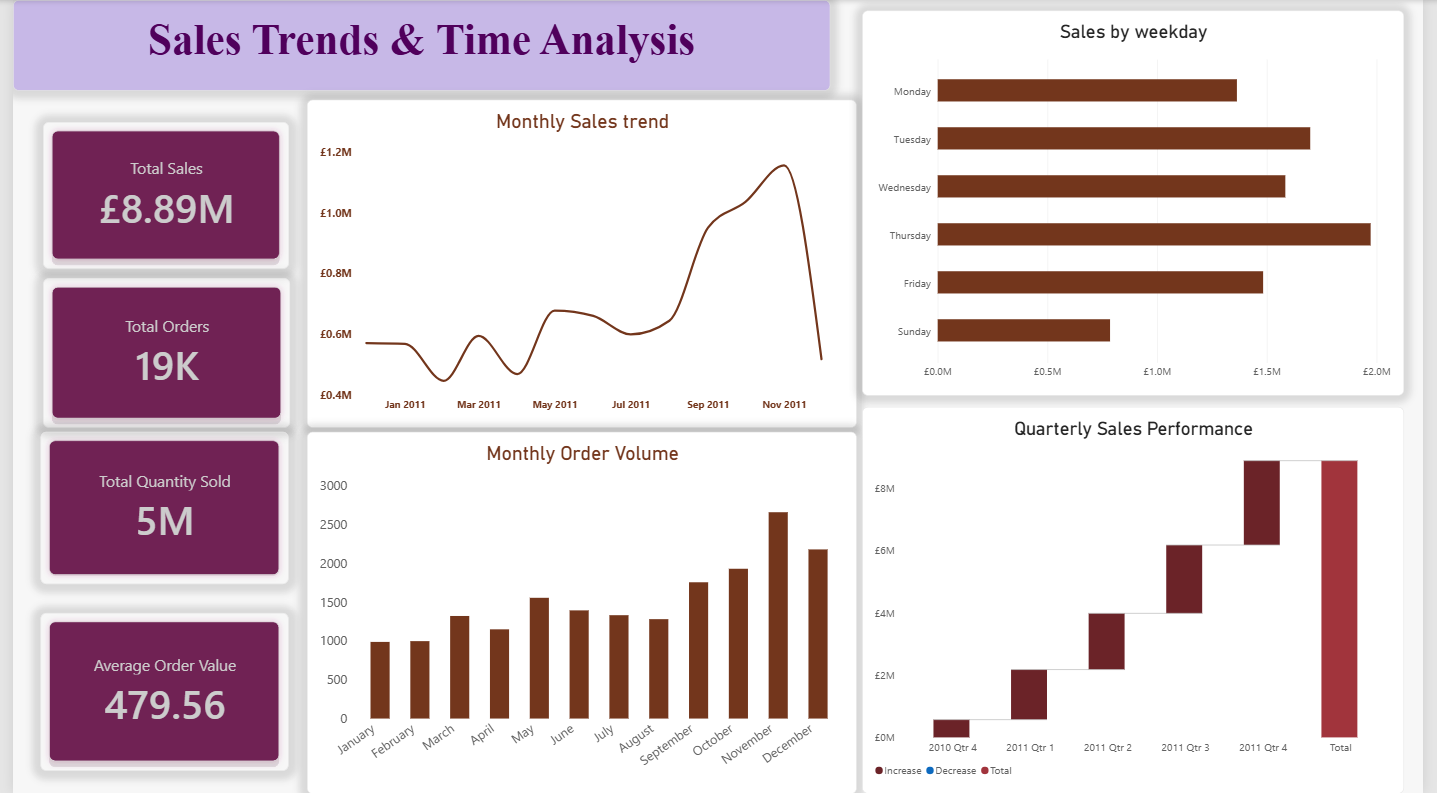

Layout of this report page (visuals, bound fields, positions):
{"tool":"powerbi","page":{"name":"Sales Trends & Time Analysis","canvas":[1920,1080],"ordinal":3},"visuals":[{"type":"textbox","box":[0,0,571.2,168],"z":0},{"type":"cardVisual","fields":{"Data":["ecommerce_cleaned csv.Total Sales"]},"box":[85.9,182.9,334.1,199.7],"z":1000},{"type":"cardVisual","fields":{"Data":["ecommerce_cleaned csv.Total Orders"]},"box":[85.9,401.3,336,203.5],"z":2000},{"type":"cardVisual","fields":{"Data":["ecommerce_cleaned csv.Total Quantity Sold"]},"box":[85.9,623.5,337.9,207.2],"z":3000},{"type":"cardVisual","fields":{"Data":["ecommerce_cleaned csv.Average Order Value"]},"box":[85.9,849.3,337.9,205.3],"z":4000},{"type":"lineChart","title":"Monthly Sales trend","fields":{"Category":["ecommerce_cleaned csv.InvoiceDate.Variation.Date Hierarchy.Year","ecommerce_cleaned csv.InvoiceDate.Variation.Date Hierarchy.Month"],"Y":["ecommerce_cleaned csv.Total Sales"]},"box":[449.9,182.9,698.1,418.1],"z":5000},{"type":"clusteredColumnChart","title":"Monthly Order Volume","fields":{"Category":["ecommerce_cleaned csv.InvoiceDate.Variation.Date Hierarchy.Year","ecommerce_cleaned csv.InvoiceDate.Variation.Date Hierarchy.Quarter","ecommerce_cleaned csv.InvoiceDate.Variation.Date Hierarchy.Month","ecommerce_cleaned csv.InvoiceDate.Variation.Date Hierarchy.Day"],"Y":["ecommerce_cleaned csv.Total Orders"]},"box":[449.9,604.8,698.1,462.9],"z":5001},{"type":"clusteredBarChart","title":"Sales by weekday","fields":{"Category":["ecommerce_cleaned csv.Day Name"],"Y":["ecommerce_cleaned csv.Total Sales"]},"box":[1176,182.9,744.8,421.9],"z":5002},{"type":"areaChart","title":"Quarterly Sales Performance","fields":{"Category":["ecommerce_cleaned csv.InvoiceDate.Variation.Date Hierarchy.Year","ecommerce_cleaned csv.InvoiceDate.Variation.Date Hierarchy.Quarter"],"Y":["ecommerce_cleaned csv.Total Sales"]},"box":[1176,610.4,737.3,457.3],"z":5003}]}

Visuals, with their boxes in screenshot pixels (x1, y1, x2, y2), scaled from the page's 1920x1080 canvas onto the 1437x793 screenshot:
textbox: 0, 0, 428, 123
cardVisual - ecommerce_cleaned csv.Total Sales: 64, 134, 314, 281
cardVisual - ecommerce_cleaned csv.Total Orders: 64, 295, 316, 444
cardVisual - ecommerce_cleaned csv.Total Quantity Sold: 64, 458, 317, 610
cardVisual - ecommerce_cleaned csv.Average Order Value: 64, 624, 317, 774
"Monthly Sales trend" lineChart: 337, 134, 859, 441
"Monthly Order Volume" clusteredColumnChart: 337, 444, 859, 784
"Sales by weekday" clusteredBarChart: 880, 134, 1436, 444
"Quarterly Sales Performance" areaChart: 880, 448, 1432, 784
